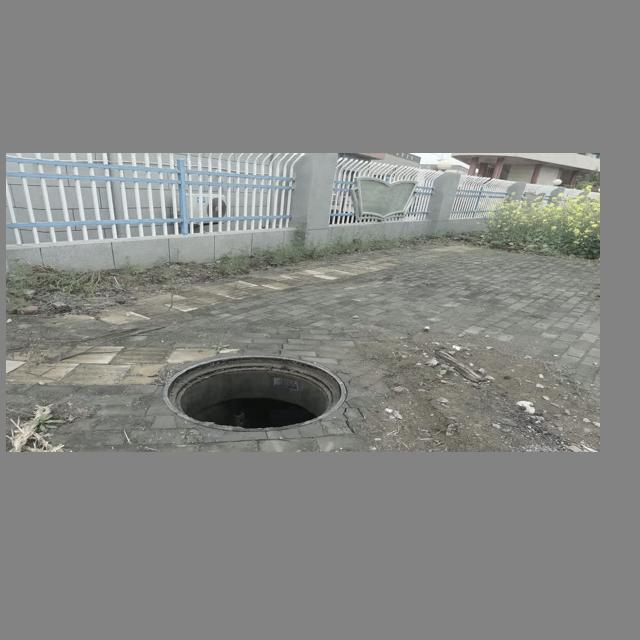lose: (163, 354, 346, 431)
